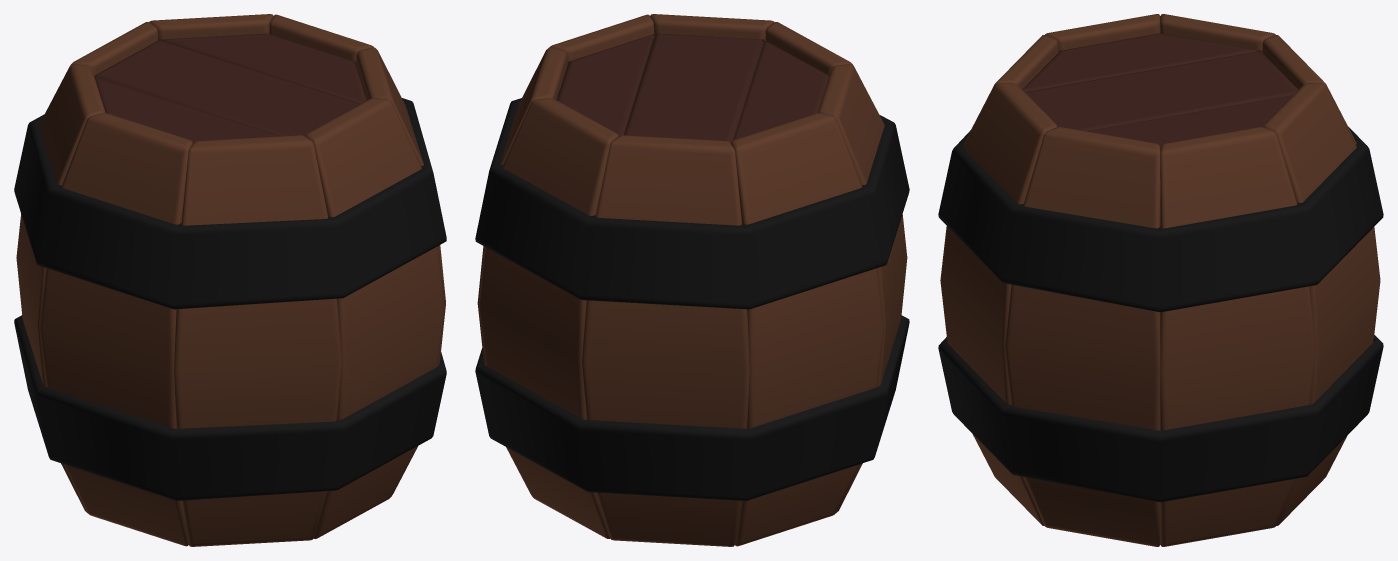
Rendered from Barrel.fbx.
3 renders of one model, left to right at view 1: azimuth 30°, elevation 25°; view 2: azimuth 150°, elevation 25°; view 3: azimuth 270°, elevation 25°, orthographic.
Visible parts, largest first — view 1: Box002, Barrel; view 2: Box002, Barrel; view 3: Box002, Barrel.
Part boxes in pixels (x1,y1,x2,y2): Box002: (16,14,445,546); Barrel: (14,33,446,500); Box002: (477,14,907,546); Barrel: (475,33,909,500); Box002: (940,14,1380,546); Barrel: (938,33,1383,502).
Bounding box in the file's own units: 111 × 108 × 110.
